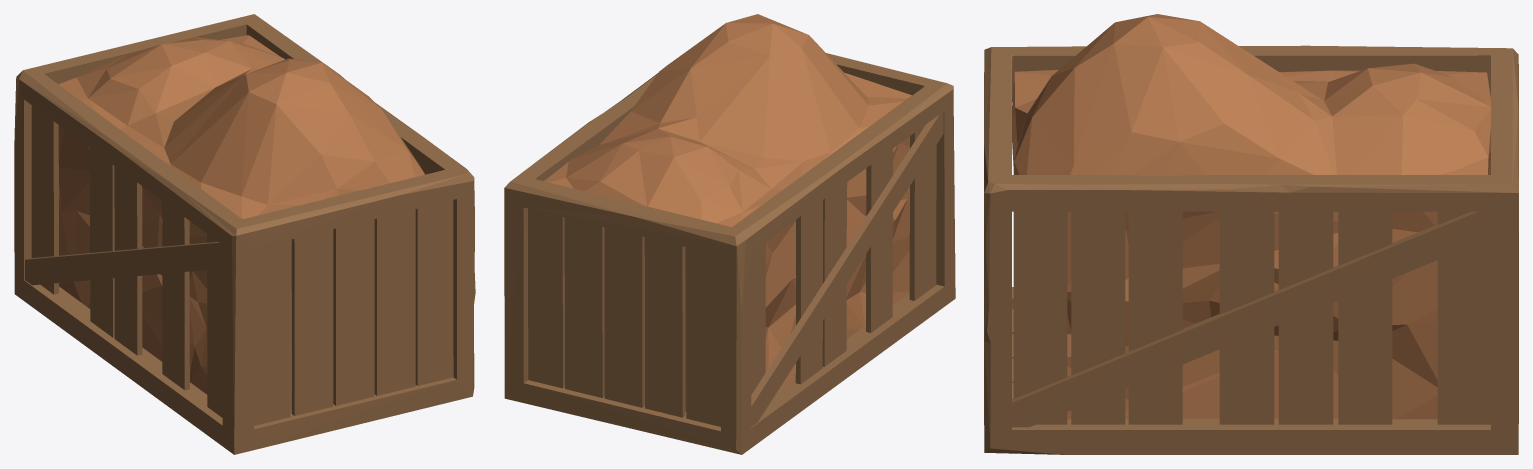
3 renders of one model, left to right at view 1: azimuth 30°, elevation 25°; view 2: azimuth 150°, elevation 25°; view 3: azimuth 270°, elevation 25°, orthographic. The views are drawn at different scales.
Visible parts, largest first — view 1: Group18921; view 2: Group18921; view 3: Group18921.
Part boxes in pixels (x1,y1,x2,y2): Group18921: (14, 14, 475, 454); Group18921: (504, 14, 955, 454); Group18921: (984, 14, 1518, 454).
Size of the model in its own units: 0.9599 by 1.15 by 1.52.
